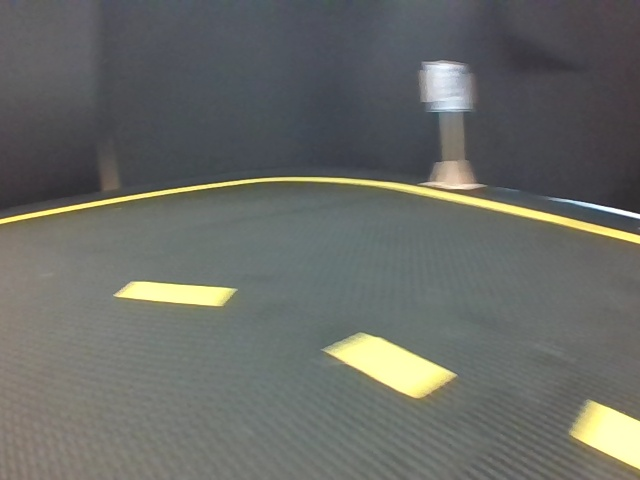no30: (425, 62, 471, 110)
